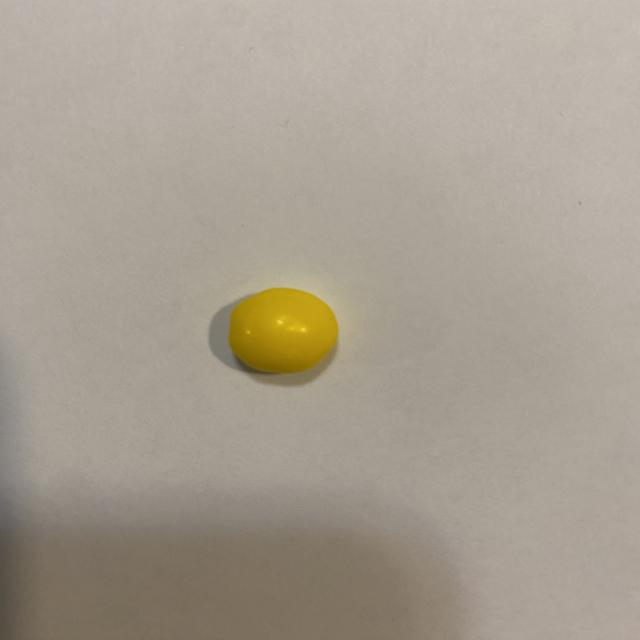smartie: (228, 288, 338, 373)
